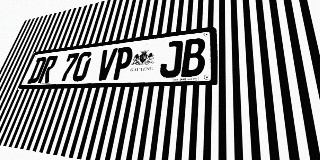0: (71, 51, 93, 82)
7: (58, 53, 80, 82)
B: (181, 37, 206, 77)
D: (27, 57, 48, 84)
J: (159, 40, 183, 78)
P: (111, 46, 134, 80)
R: (37, 55, 59, 83)
V: (95, 48, 118, 81)
